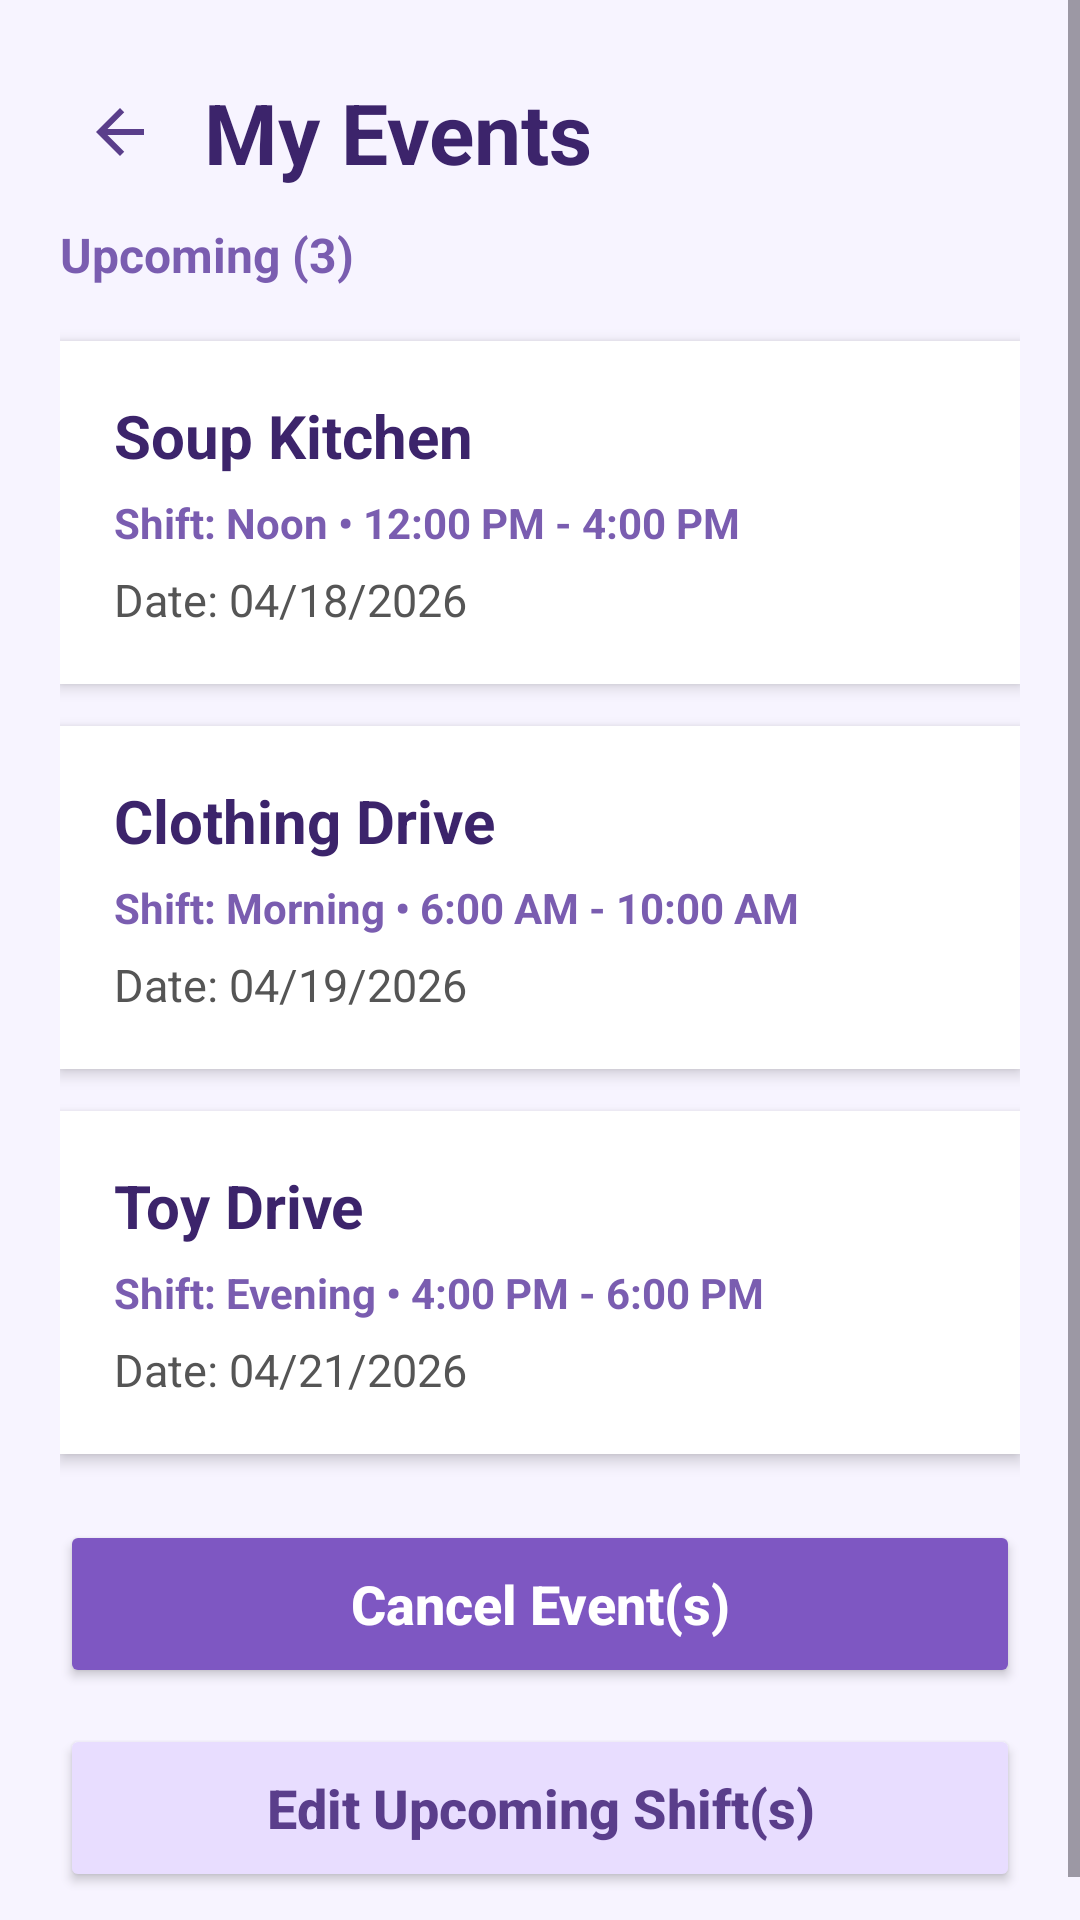

Screen size 1080×1920. Icon name, then its box in pixels as (x1=x1, y1=y1, x2=x2, y2=y2):
Back: (x1=96, y1=108, x2=144, y2=156)
